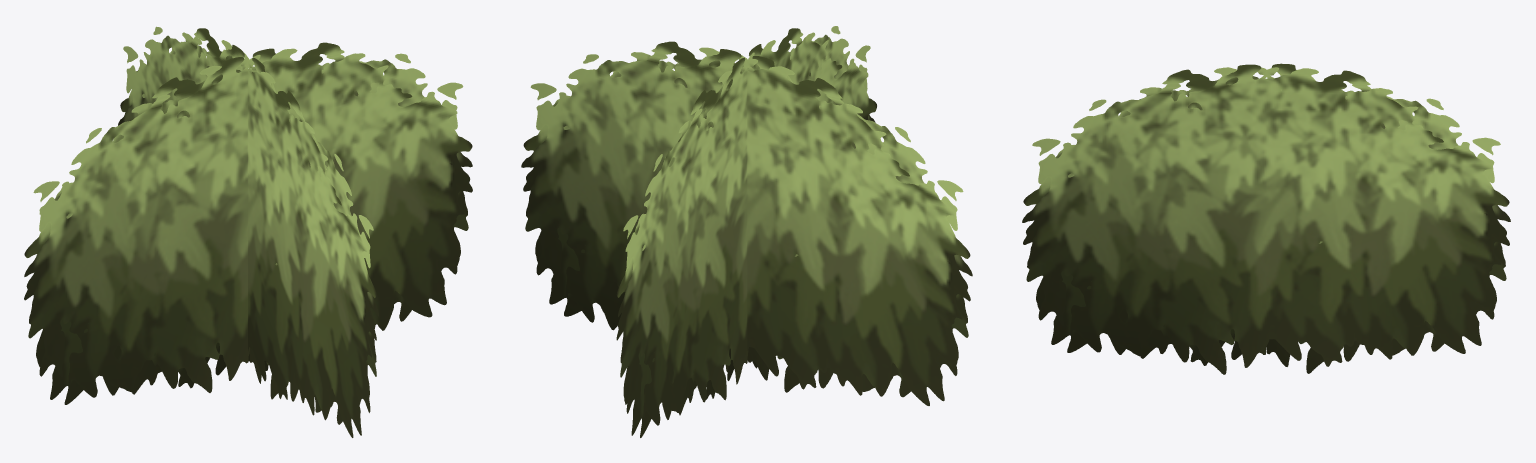
File: HP3_bush032 1.fbx
The picture shows the model from 3 angles, left to right: view 1: azimuth 30°, elevation 25°; view 2: azimuth 150°, elevation 25°; view 3: azimuth 270°, elevation 25°; orthographic projection. The views are drawn at different scales.
Parts seen in each view (by area): view 1: HP3_bush032; view 2: HP3_bush032; view 3: HP3_bush032.
Part boxes in pixels (x1,y1,x2,y2): HP3_bush032: [24, 26, 472, 437]; HP3_bush032: [521, 26, 972, 437]; HP3_bush032: [1022, 63, 1510, 374].
Size of the model in its own units: 10.1 by 7.21 by 10.1.
